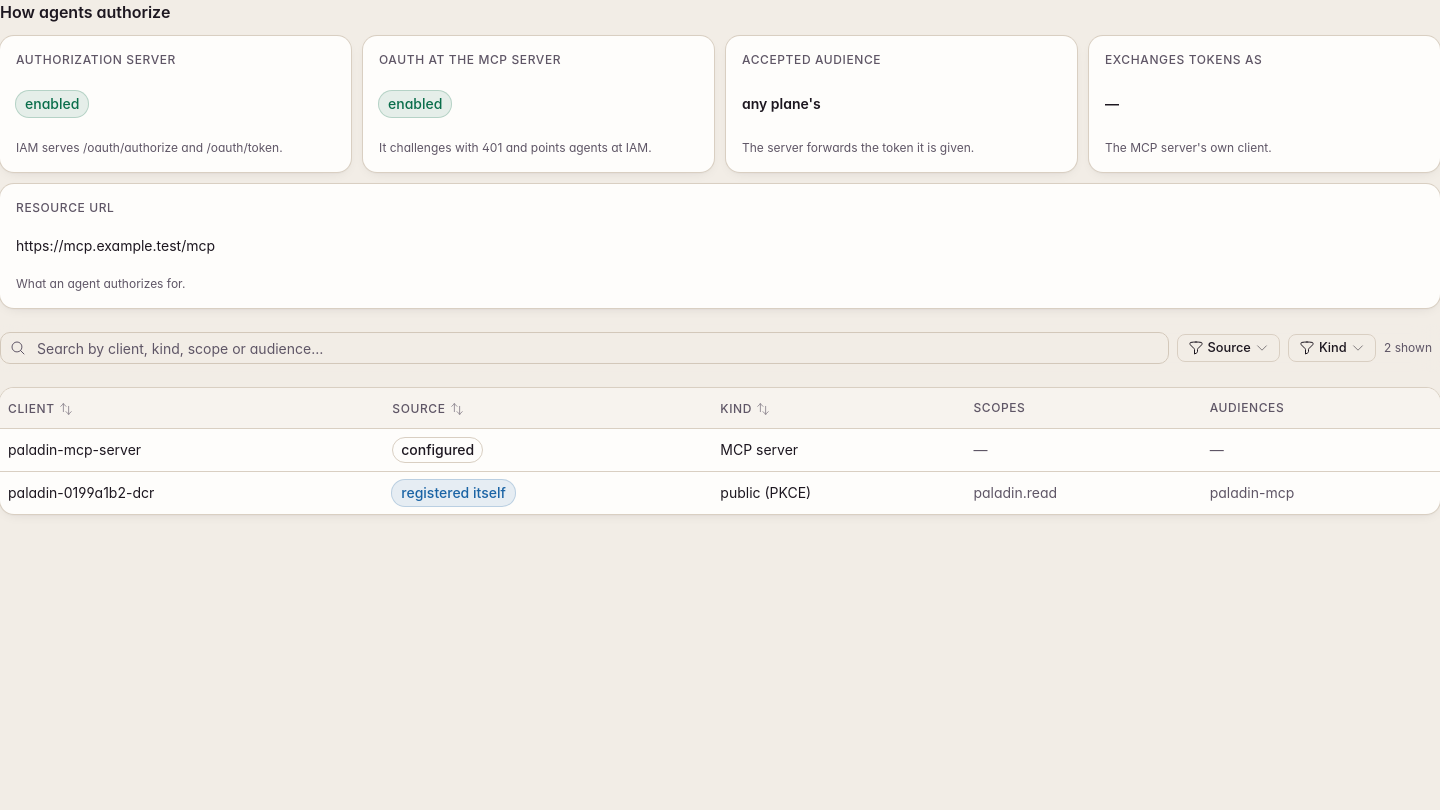
Test: deleting a client › offers no delete for a client the configuration seeds
Step 1. Click the row "paladin-mcp-server configured MCP server — —" → (720,450), box [0,428,1439,471]
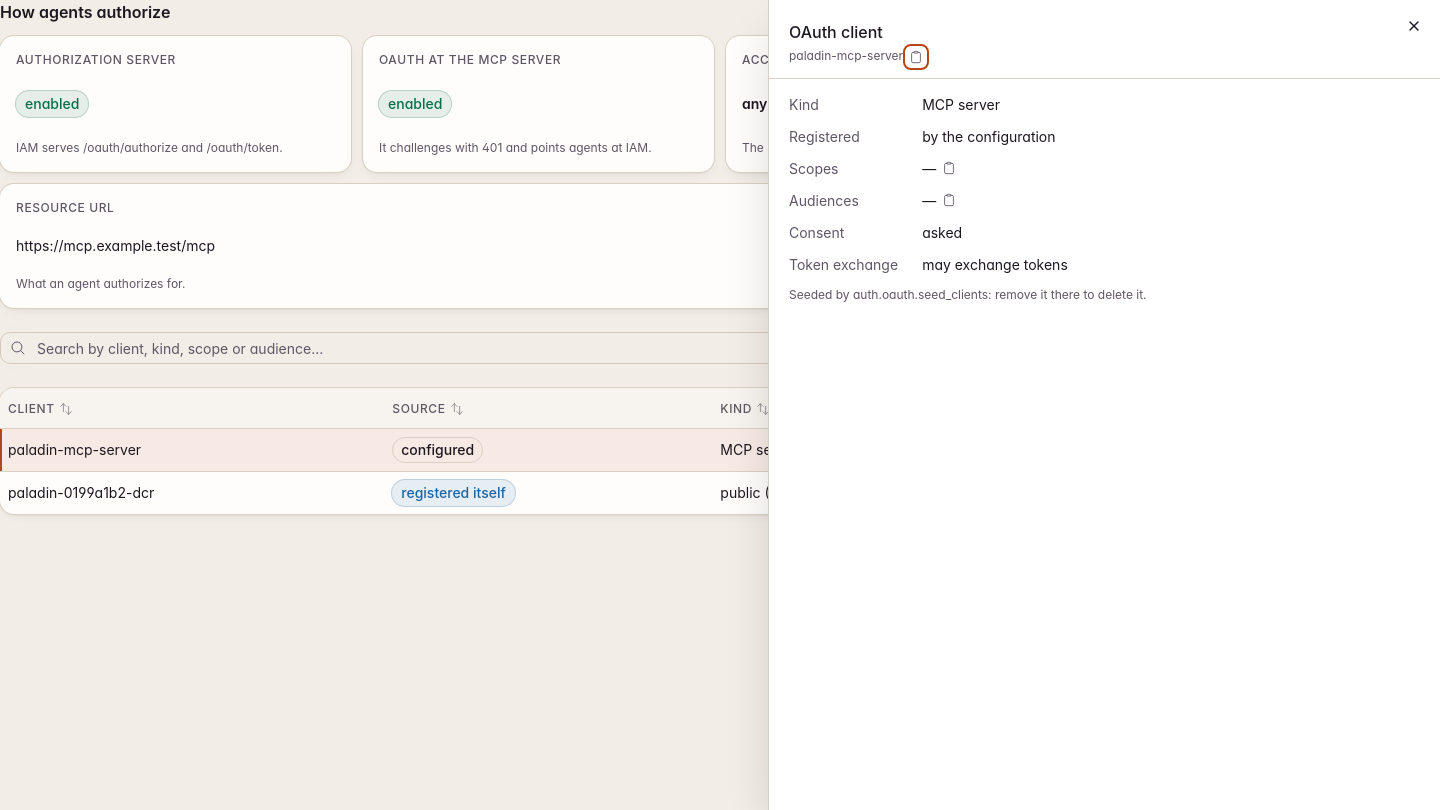
Expected: the dialog shows "auth.oauth.seed_clients", [789,287,1147,302]
